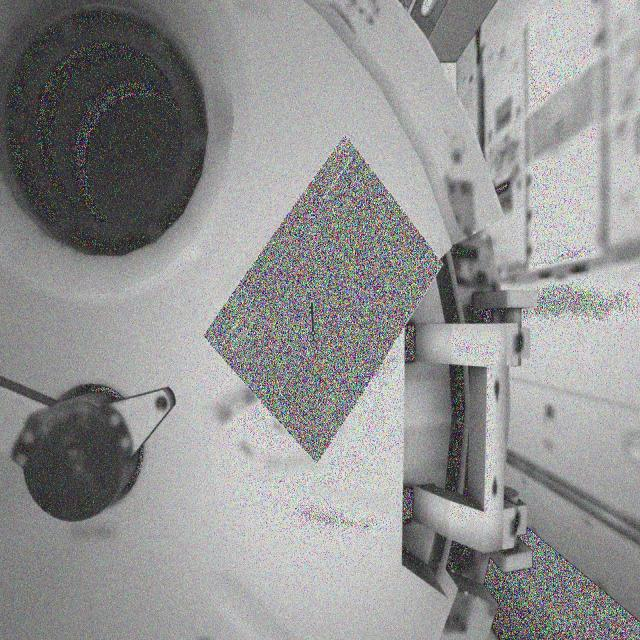key: (301, 294, 327, 357)
